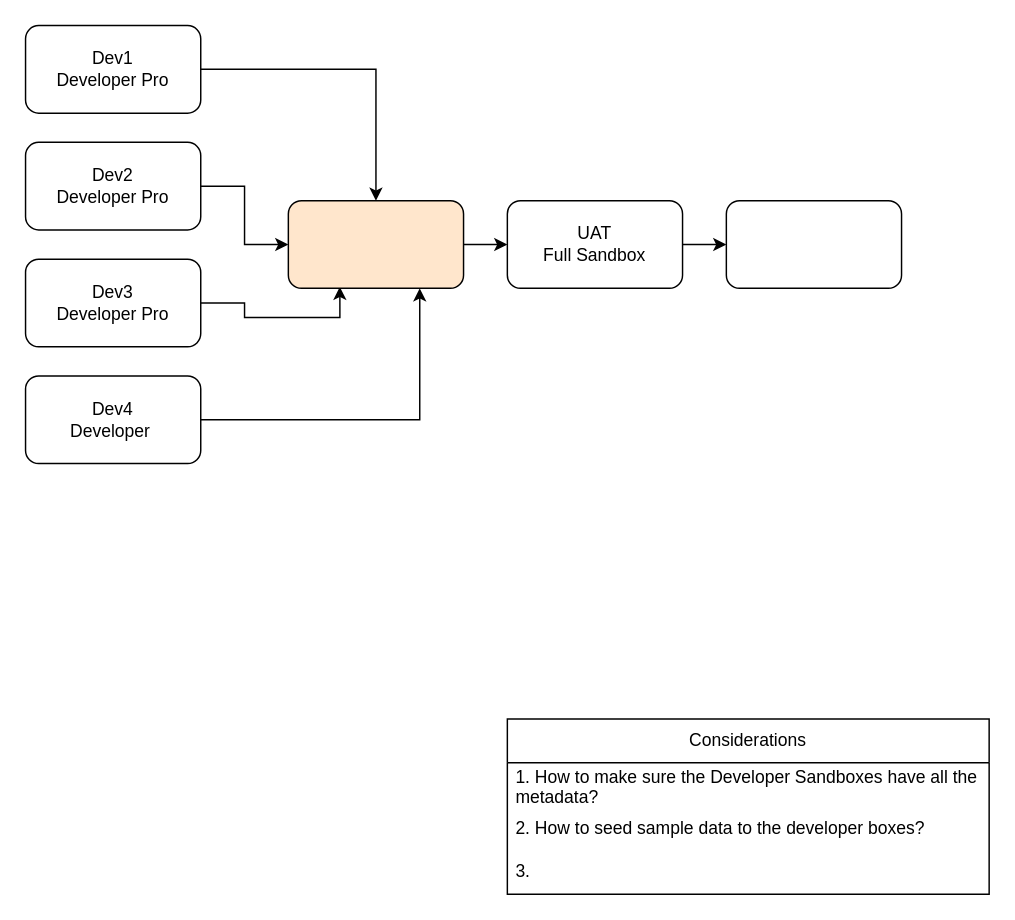
Image size: 1015x920. Some labels were removed from this diagram. The shapes that lost their labels are listed below. From the top down, each one's centre as x and y in pixels, then its label:
the point at 375,243: Staging Developer Pro
the point at 813,243: Production
